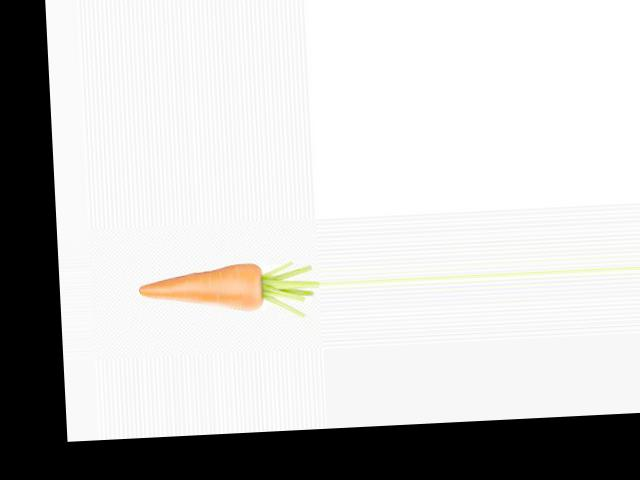carrot: (130, 251, 273, 318)
